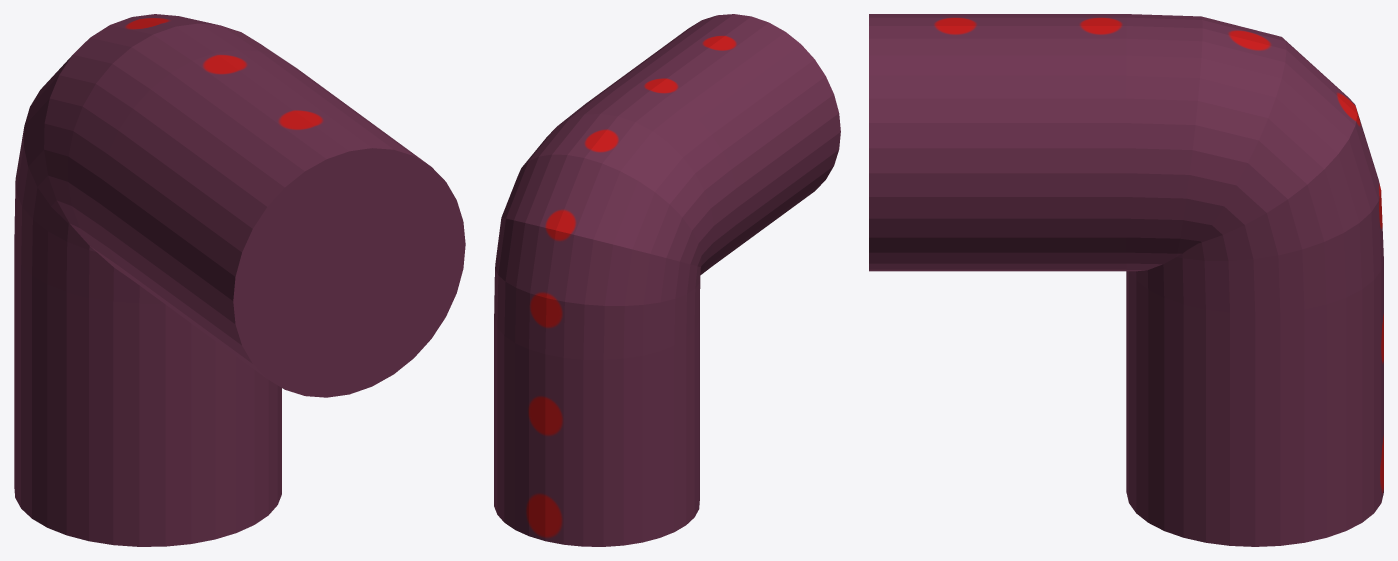
The model's file is Weapon-pipe.glb.
3 views of the same model, side by side, from view 1: azimuth 30°, elevation 25°; view 2: azimuth 150°, elevation 25°; view 3: azimuth 270°, elevation 25° (orthographic). The views are drawn at different scales.
Parts seen in each view (by area): view 1: Cylinder.001; view 2: Cylinder.001; view 3: Cylinder.001.
Part boxes in pixels (x1=…): Cylinder.001: x1=14, y1=14, x2=465, y2=546; Cylinder.001: x1=494, y1=14, x2=840, y2=546; Cylinder.001: x1=869, y1=14, x2=1383, y2=546.
Size of the model in its own units: 2 by 4 by 4.
1 material, 1 textured.
